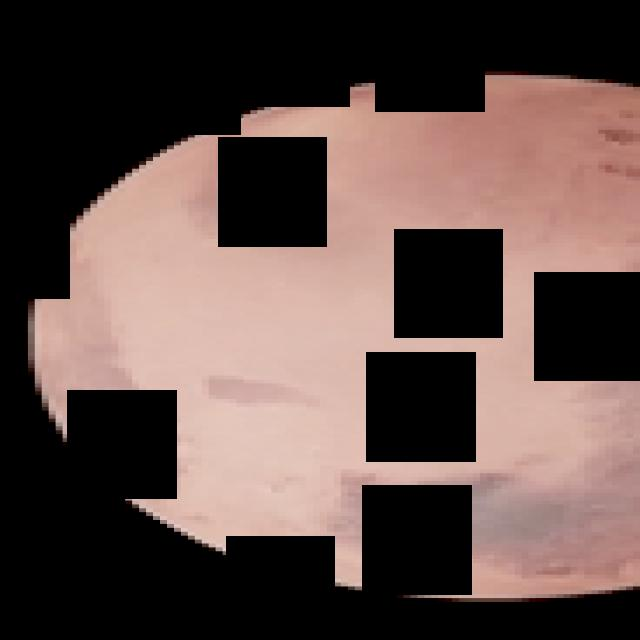Mars: (21, 74, 640, 601)
